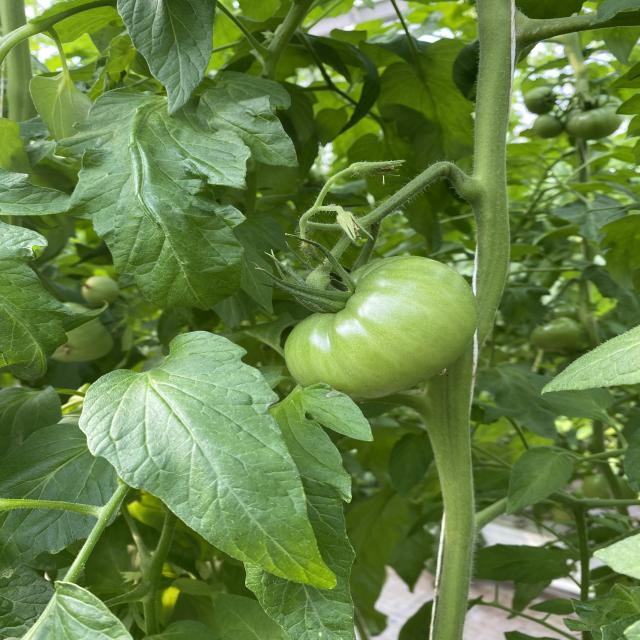yesil: (248, 242, 493, 396)
